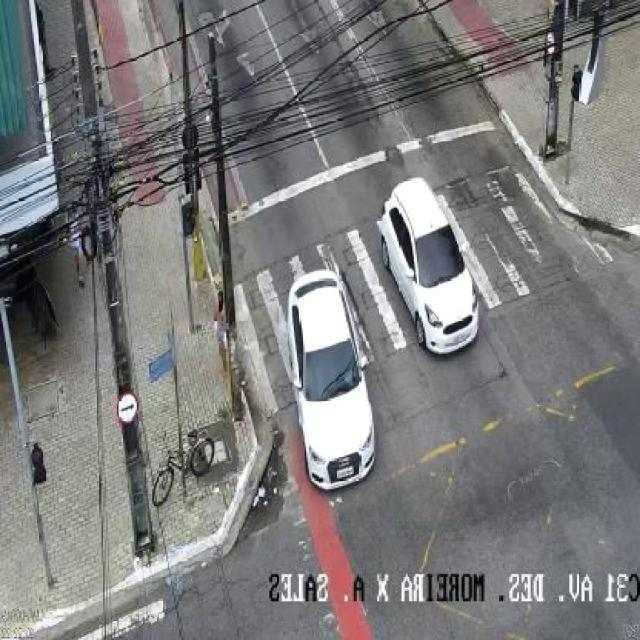Car: (286, 268, 376, 494), (377, 176, 480, 357)
Cycle: (150, 429, 217, 508)
